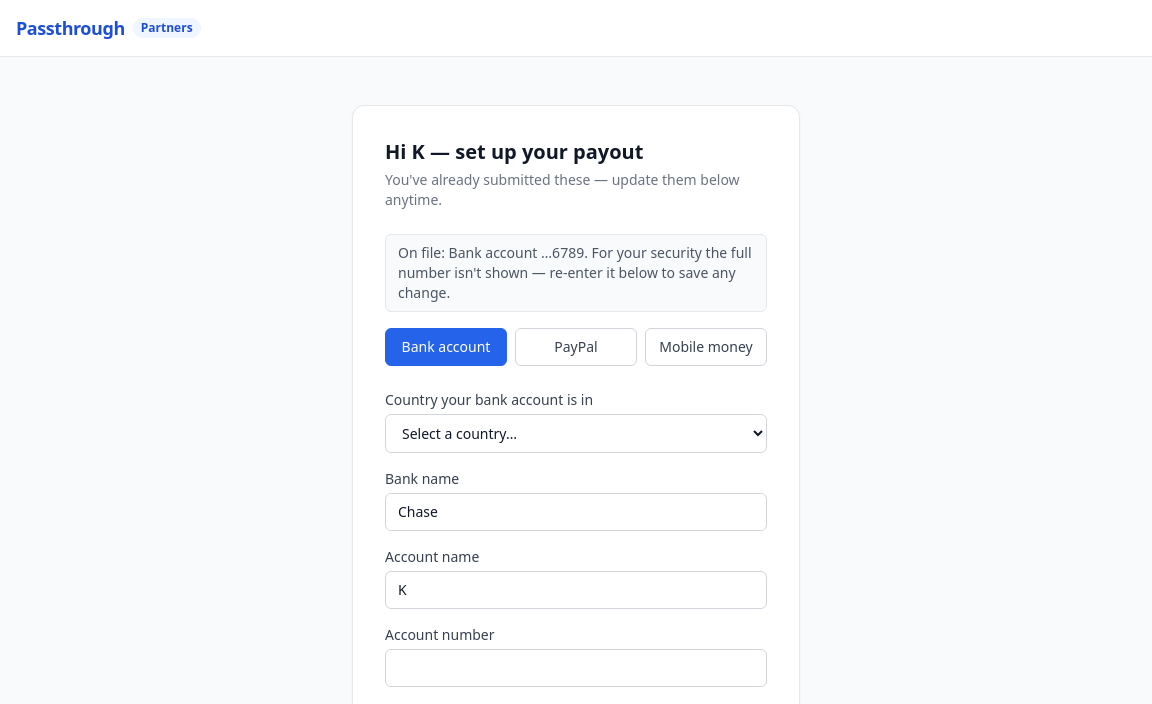
it: payout page: edits are not silently dropped (round 22) › switching to mobile money without typing the phone number is refused too
Click the button "Mobile money" at x=706, y=347, box [645, 328, 767, 366]
(page scrolled)
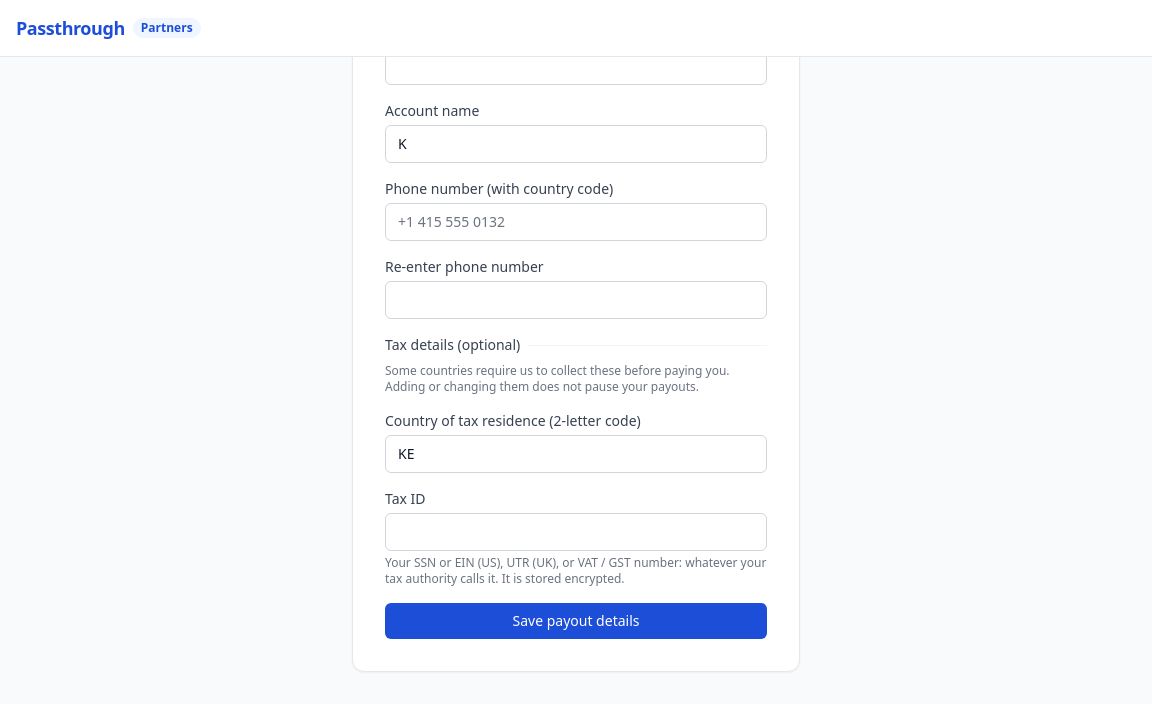
Type "T-998877" into the field labelled "Tax ID" at x=576, y=532, box [385, 513, 767, 551]
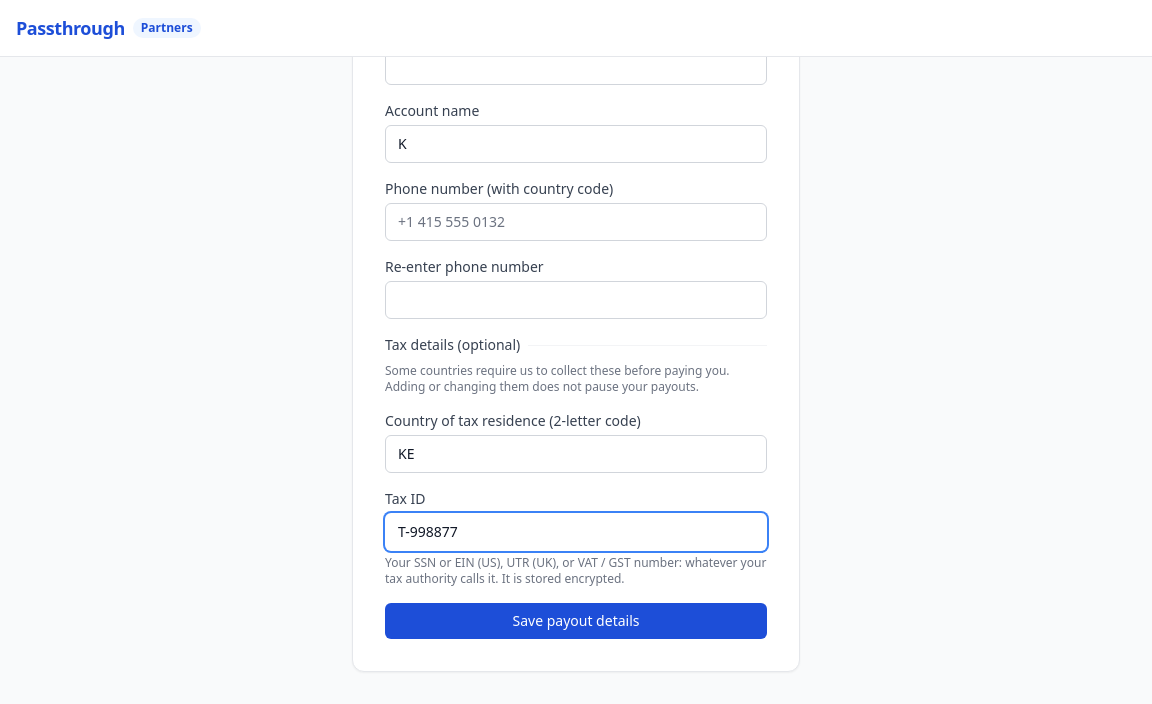
Click the button "Save payout details" at x=576, y=621, box [385, 603, 767, 639]
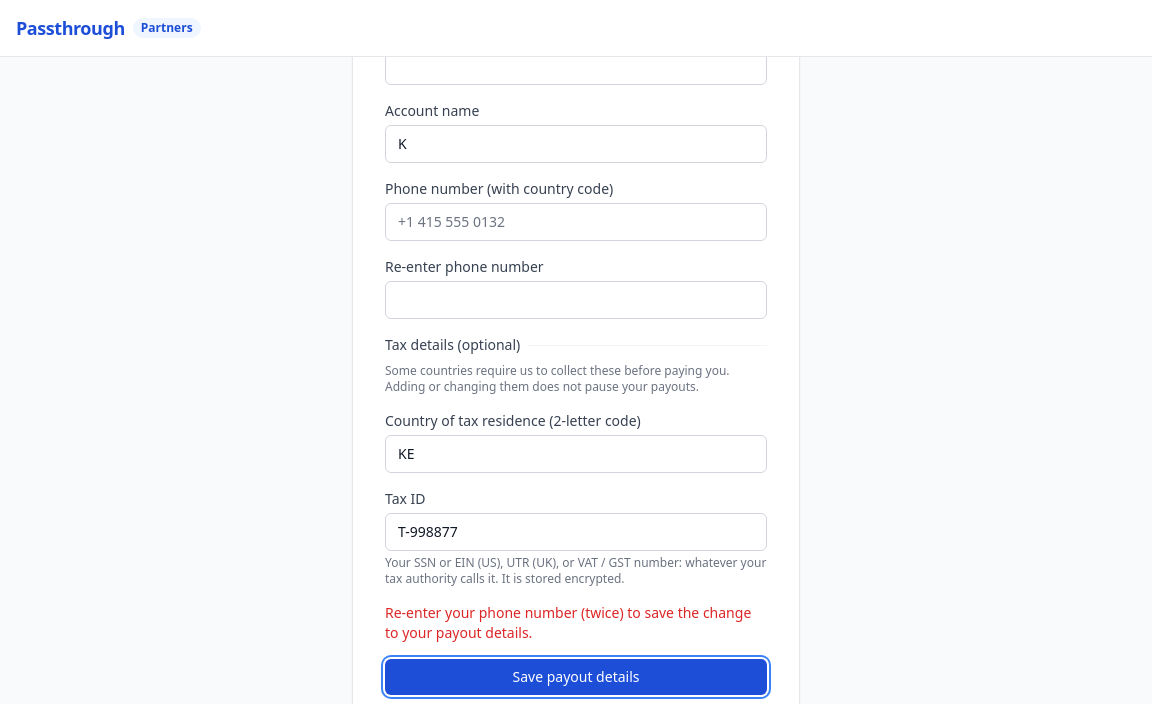
Check: the text "Re-enter your phone number (twice) to save the change to your payout details." is shown, box [385, 603, 767, 643]
